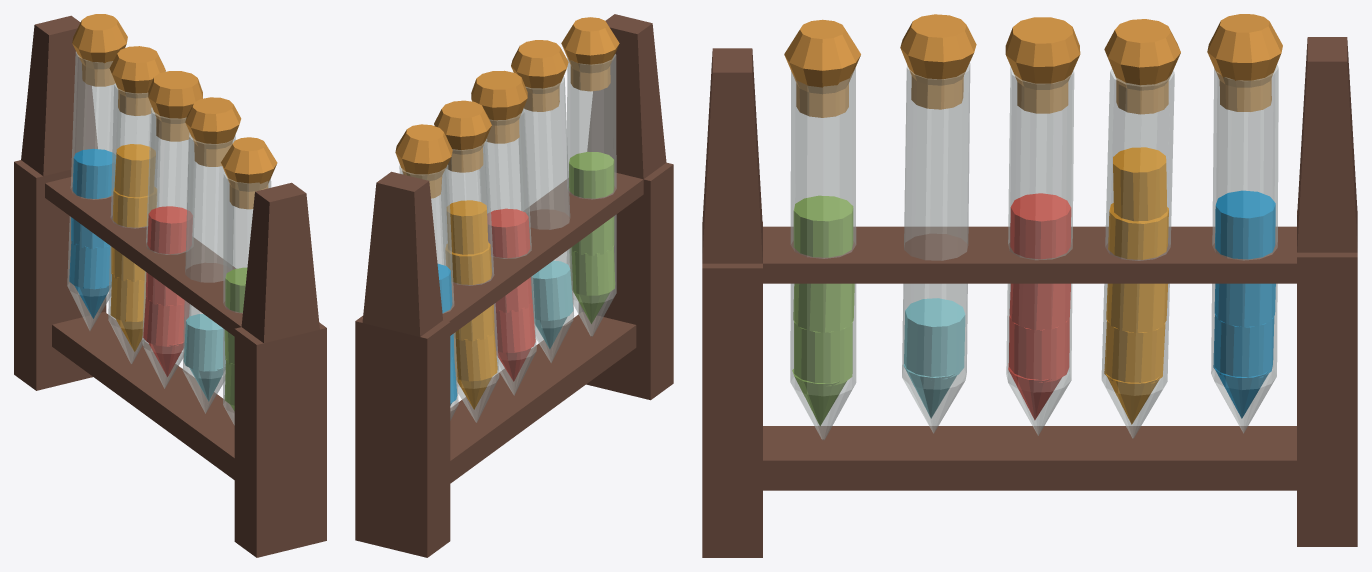
The model's file is starch.glb.
3 renders of one model, left to right at view 1: azimuth 30°, elevation 25°; view 2: azimuth 150°, elevation 25°; view 3: azimuth 270°, elevation 25°, orthographic. The views are drawn at different scales.
Visible parts, largest first — view 1: Node; view 2: Node; view 3: Node.
Part boxes in pixels (left/top/right/bottom): Node: left=14, top=14, right=326, bottom=557; Node: left=355, top=14, right=673, bottom=557; Node: left=702, top=14, right=1357, bottom=557.
Bounding box in the file's own units: 0.205 × 1.04 × 1.19.
